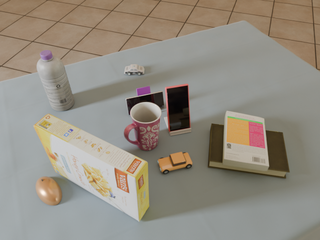book: (208, 124, 290, 178), (223, 111, 269, 171)
bottle: (37, 50, 74, 111)
box: (34, 114, 149, 221)
cup: (124, 102, 161, 150)
mouse: (36, 177, 62, 205)
phone: (165, 84, 190, 132), (126, 91, 164, 115)
toy_car: (158, 152, 192, 174), (124, 65, 144, 75)
